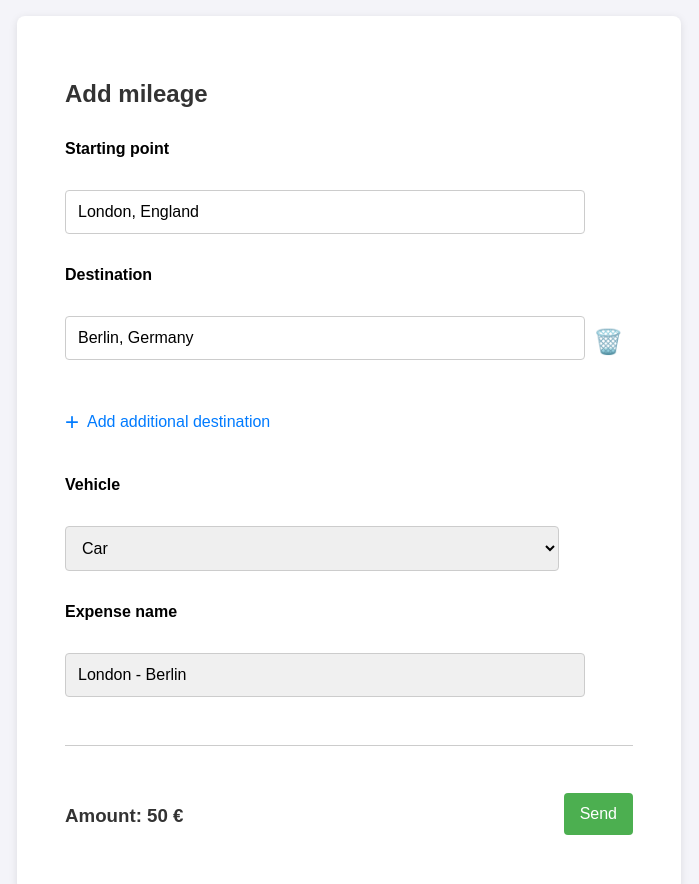
Test: App Component › adds a new destination on clicking "Add additional destination"
Click the text "+ Add additional destination": point(168, 422) left=65, top=408, right=270, bottom=435
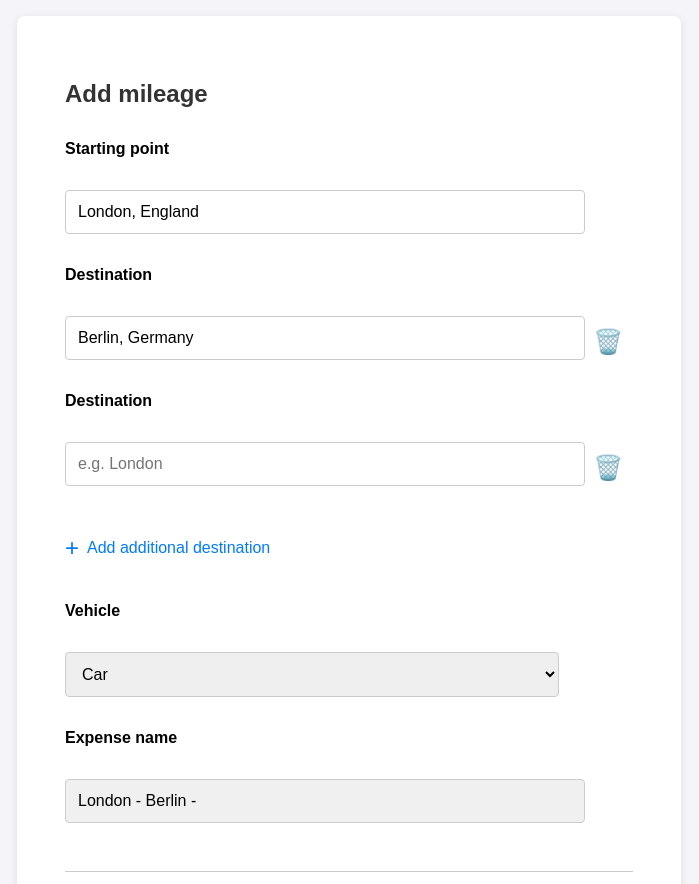
Check: the number of fields with placeholder "e.g. London" is 2, box left=65, top=316, right=585, bottom=360; left=65, top=442, right=585, bottom=486
